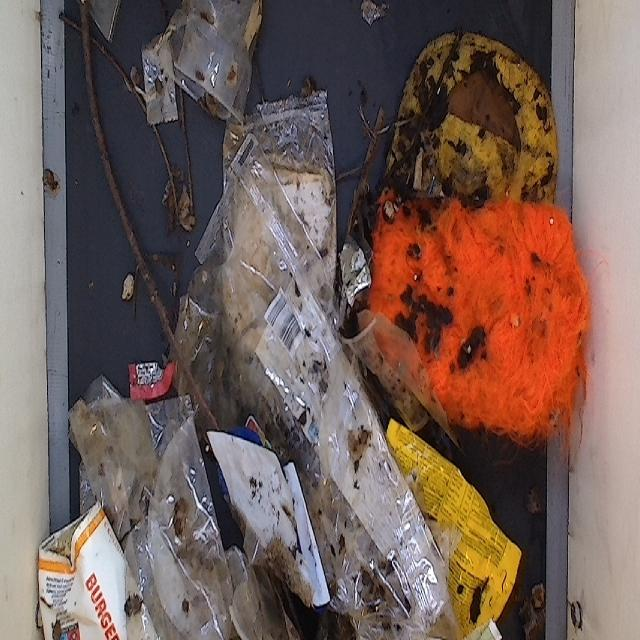food_packaging: (21, 498, 172, 640)
food_wrapping: (366, 415, 522, 640)
outside_classes: (360, 12, 599, 441)
plastic_cups: (161, 0, 273, 127)
plastic_films: (221, 91, 456, 640), (69, 370, 232, 640), (140, 28, 179, 126), (89, 0, 126, 44)
